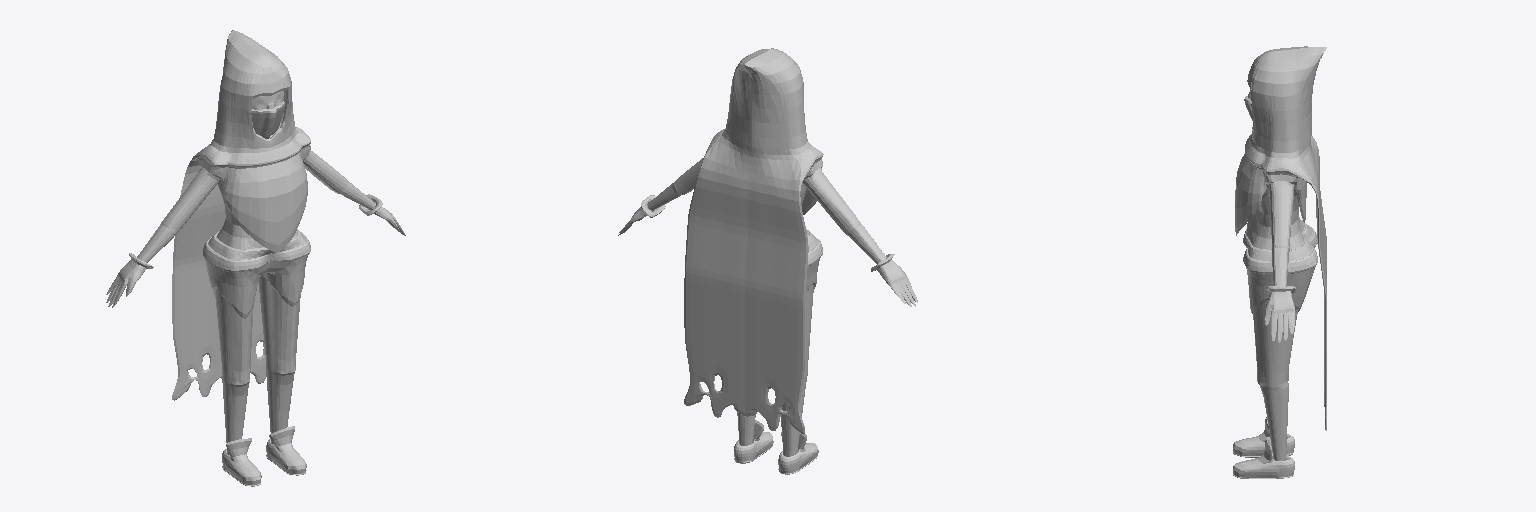
File: Lex_High.obj
The picture shows the model from 3 angles: view 1: azimuth 30°, elevation 25°; view 2: azimuth 150°, elevation 25°; view 3: azimuth 270°, elevation 25°; orthographic projection.
Visible parts, largest first — view 1: pSphere8; view 2: pSphere8; view 3: pSphere8.
Boxes of the visible parts, x1=… form: pSphere8: x1=106, y1=30, x2=405, y2=486; pSphere8: x1=618, y1=48, x2=917, y2=474; pSphere8: x1=1233, y1=46, x2=1326, y2=478.
Bounding box in the file's own units: 6.71 × 9.1 × 1.87.